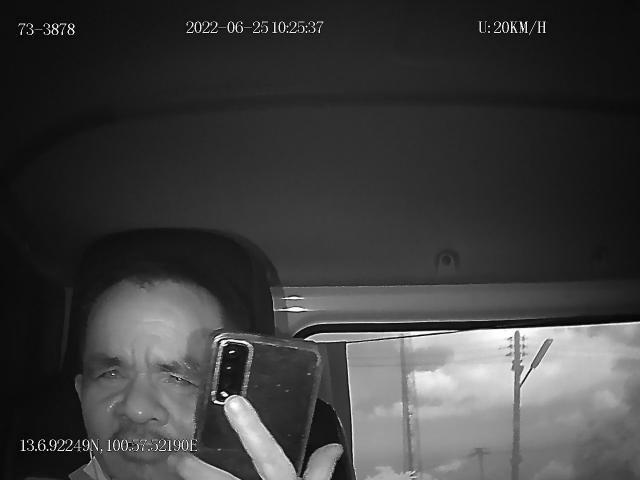PhoneUse: (192, 328, 328, 480)
SafeDriving: (154, 358, 205, 396), (88, 356, 132, 388)
